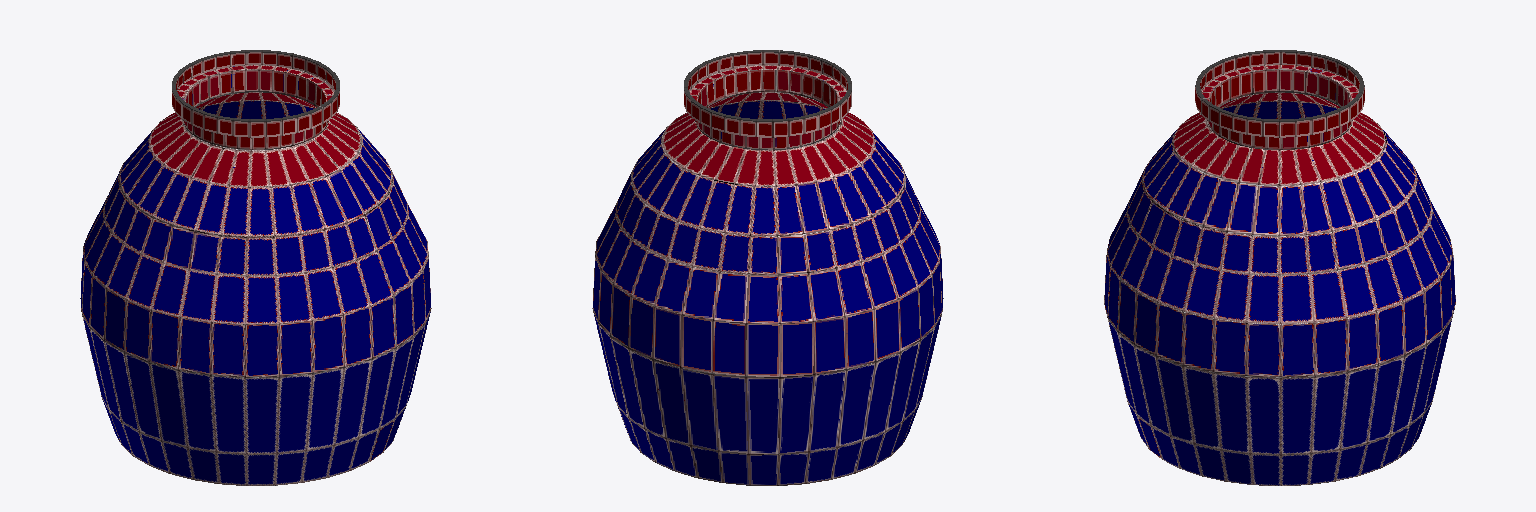
The picture shows the model from 3 angles: view 1: azimuth 30°, elevation 25°; view 2: azimuth 150°, elevation 25°; view 3: azimuth 270°, elevation 25°; orthographic projection.
Visible parts, largest first — view 1: Circle; view 2: Circle; view 3: Circle.
Part boxes in pixels (bbox=[...]): Circle: bbox=[80, 50, 431, 485]; Circle: bbox=[592, 50, 943, 485]; Circle: bbox=[1104, 50, 1455, 485].
Bounding box in the file's own units: 0.757 × 0.8093 × 0.757.
Materials: 1 (1 with a texture image).